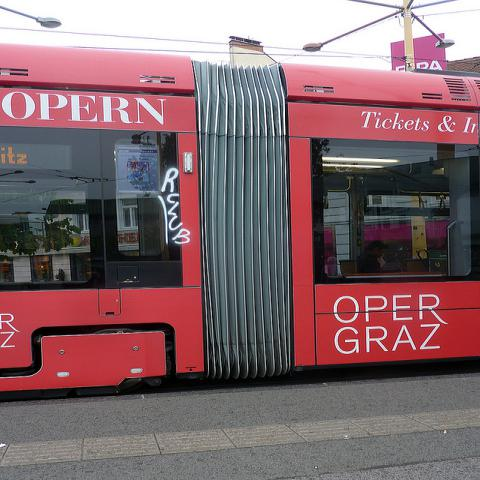bus: (0, 41, 479, 410)
